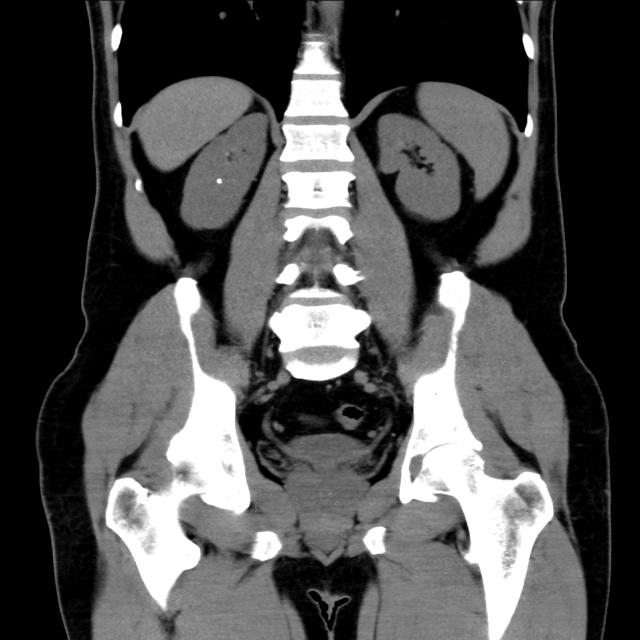kidneystone: (216, 178, 223, 183)
